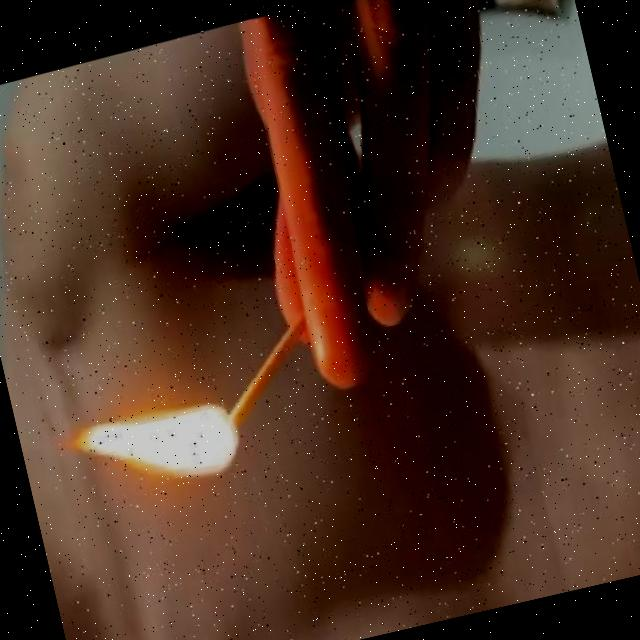fire: (41, 374, 252, 511)
